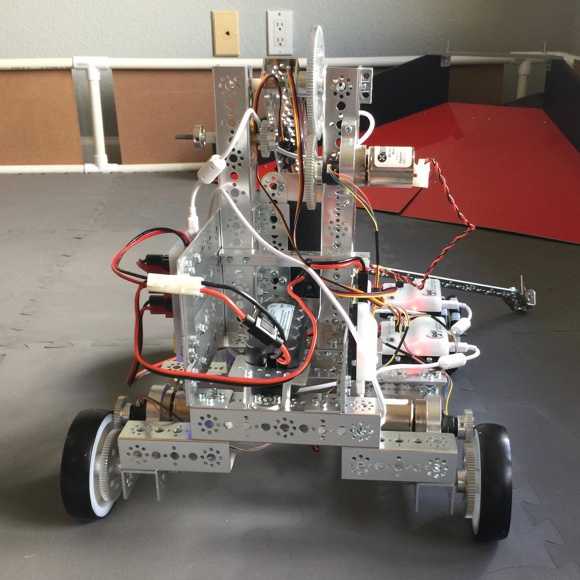robot: (50, 18, 543, 551)
